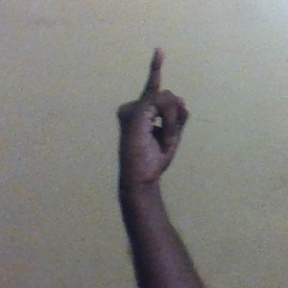I: (114, 42, 191, 174)
